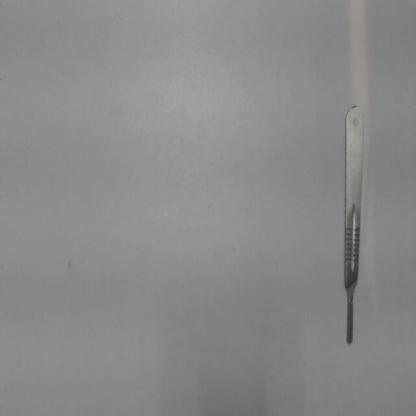No.4 BP Handle: (332, 98, 371, 356)
